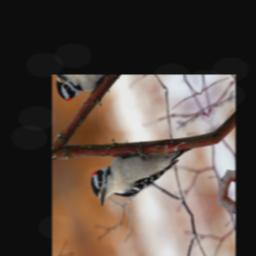Woodpecker: (85, 118, 196, 214)
